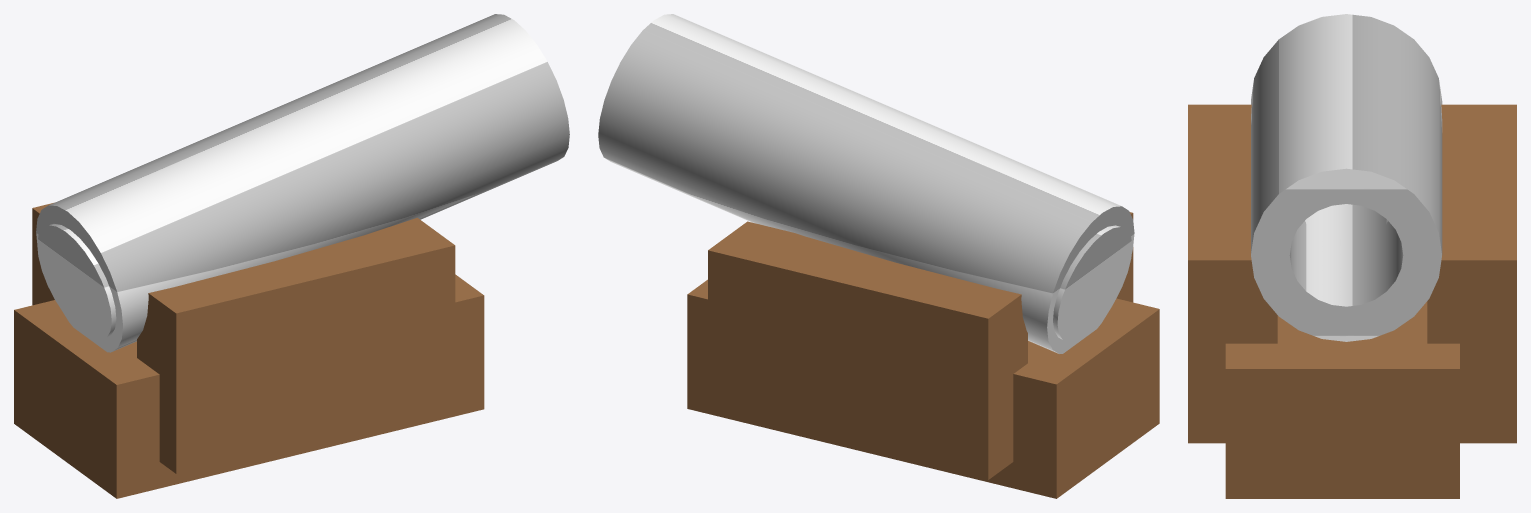
Rendered from cannon.fbx.
The picture shows the model from 3 angles, left to right: view 1: azimuth 30°, elevation 25°; view 2: azimuth 150°, elevation 25°; view 3: azimuth 270°, elevation 25°; orthographic projection. The views are drawn at different scales.
Visible parts, largest first — view 1: mergedBlocks; view 2: mergedBlocks; view 3: mergedBlocks.
Boxes of the visible parts, x1,y1,x2,y2 form: mergedBlocks: (14,14,569,498); mergedBlocks: (598,14,1159,498); mergedBlocks: (1188,14,1516,498).
Size of the model in its own units: 10.46 by 6.95 by 5.5.
